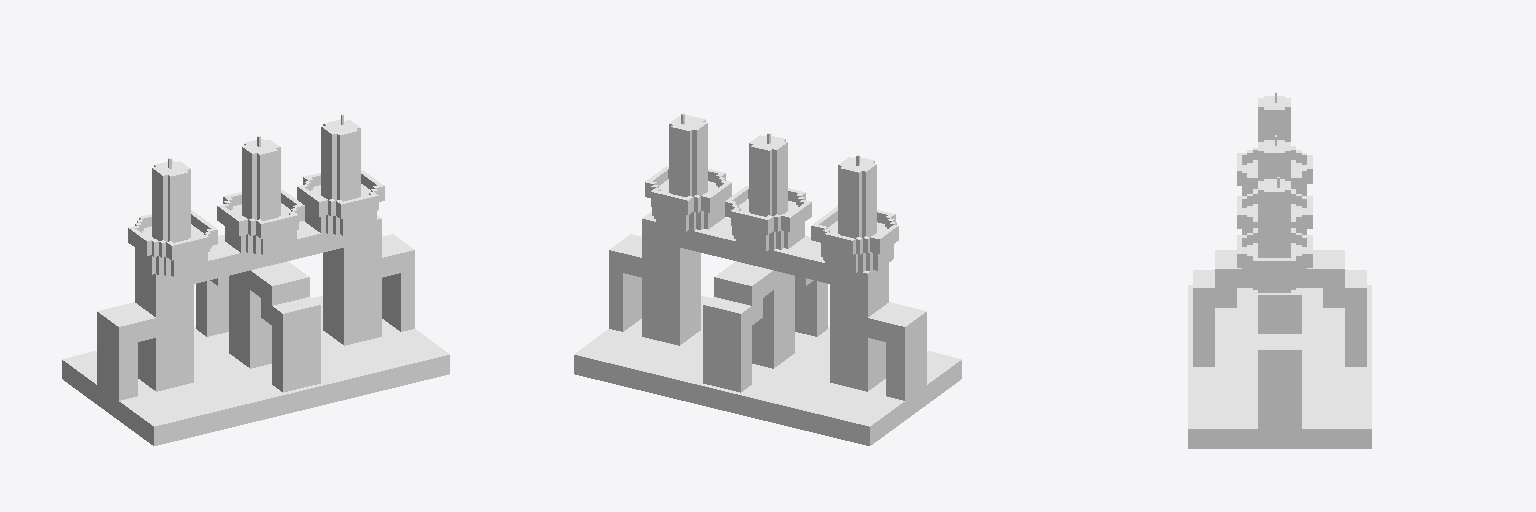
The model's file is podsvech.obj.
The picture shows the model from 3 angles: view 1: azimuth 30°, elevation 25°; view 2: azimuth 150°, elevation 25°; view 3: azimuth 270°, elevation 25°; orthographic projection.
Bounding box in the file's own units: 126 × 98 × 68.